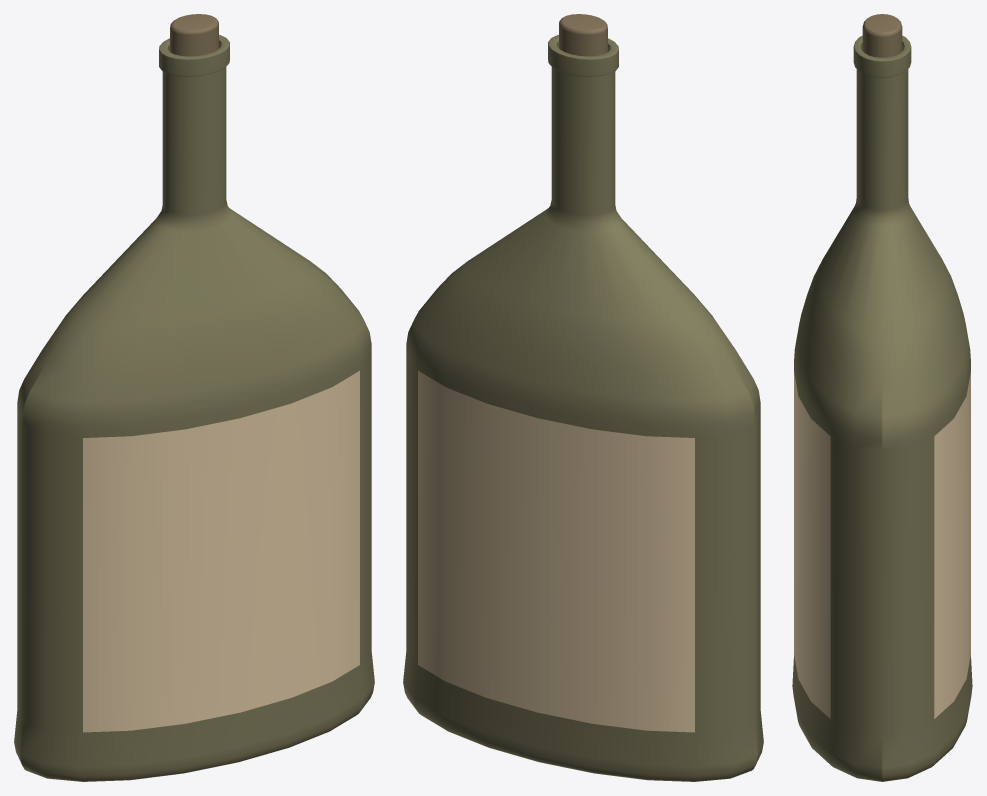
File: yellow_whiskey_bottle.fbx
3 views of the same model, side by side, from view 1: azimuth 30°, elevation 25°; view 2: azimuth 150°, elevation 25°; view 3: azimuth 270°, elevation 25° (orthographic). The views are drawn at different scales.
Parts seen in each view (by area): view 1: whiskey_bottle; view 2: whiskey_bottle; view 3: whiskey_bottle.
Boxes of the visible parts, left/top/right/bottom form: whiskey_bottle: left=14, top=14, right=374, bottom=781; whiskey_bottle: left=403, top=14, right=763, bottom=781; whiskey_bottle: left=792, top=14, right=972, bottom=781.
Bounding box in the file's own units: 2.04 × 3.96 × 0.9487.
